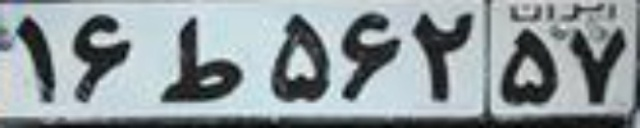1: (13, 15, 56, 103)
2: (408, 9, 481, 103)
5: (265, 14, 328, 103), (501, 25, 559, 105)
6: (70, 13, 130, 101), (342, 11, 399, 101)
7: (568, 25, 625, 106)
taa: (156, 18, 242, 101)
